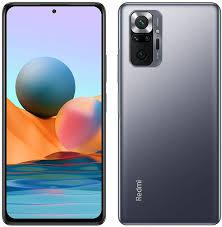Smartphone: (117, 5, 222, 226), (7, 4, 106, 219)
